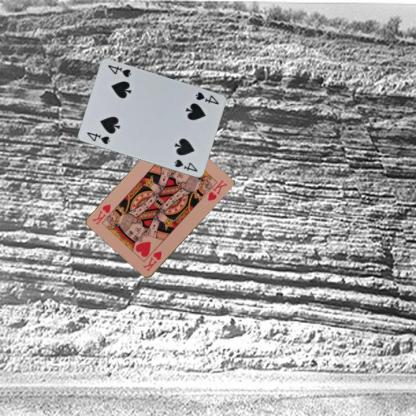4s: (193, 89, 220, 106), (84, 130, 112, 146)
Kh: (140, 248, 163, 273)
